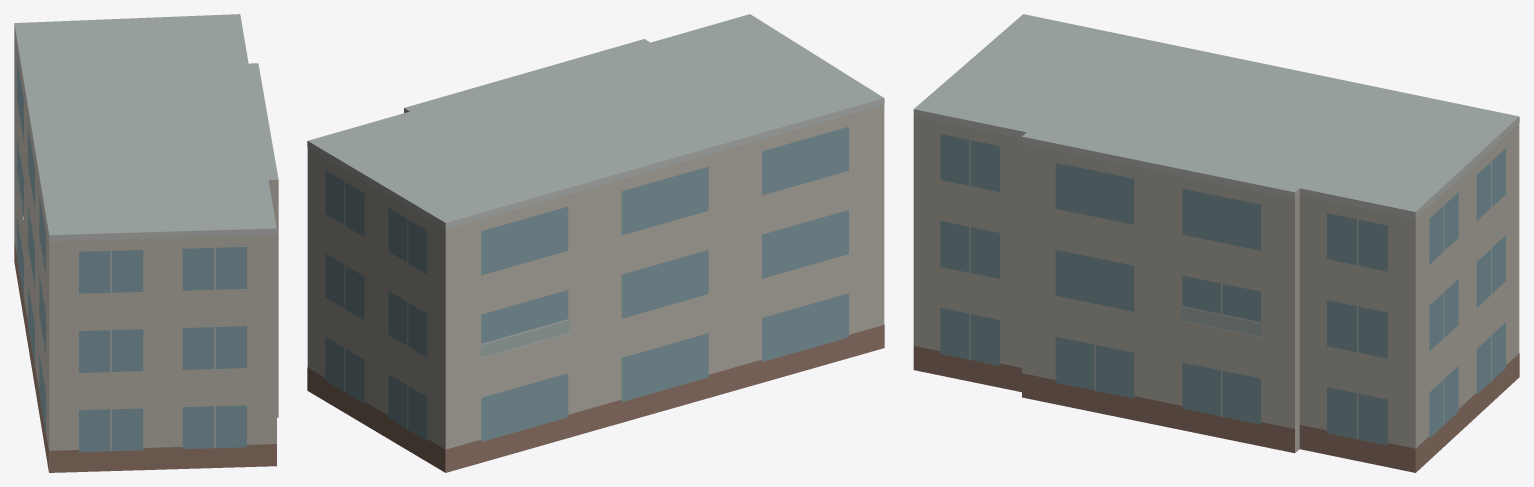
File: survey-upis-32944492.glb
3 renders of one model, left to right at view 1: azimuth 30°, elevation 25°; view 2: azimuth 150°, elevation 25°; view 3: azimuth 270°, elevation 25°, orthographic. The views are drawn at different scales.
Visible parts, largest first — view 1: survey-upis-32944492.tmp; view 2: survey-upis-32944492.tmp; view 3: survey-upis-32944492.tmp.
Part boxes in pixels (x1,y1,x2,y2): survey-upis-32944492.tmp: (14,14,278,472); survey-upis-32944492.tmp: (307,14,884,472); survey-upis-32944492.tmp: (913,14,1519,472).
Size of the model in its own units: 14.91 by 9.15 by 19.27.
